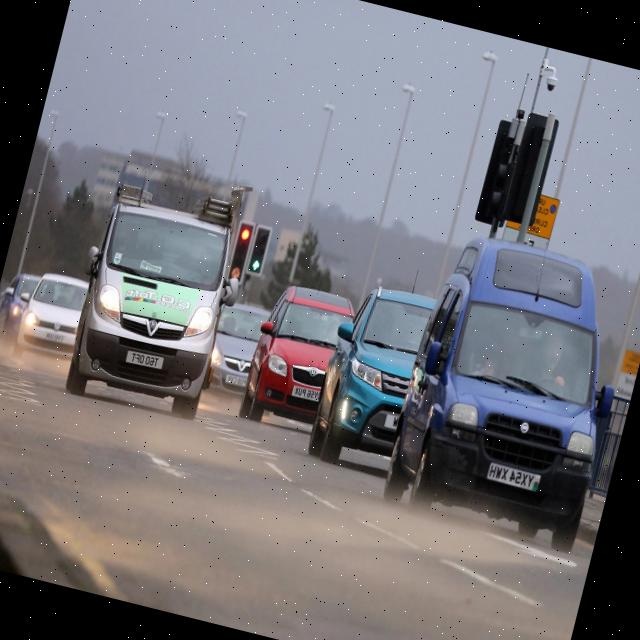bus: (57, 160, 265, 424)
car: (378, 223, 640, 553), (304, 272, 440, 480), (239, 280, 356, 430), (15, 268, 90, 355), (204, 295, 271, 392), (0, 268, 40, 332)
